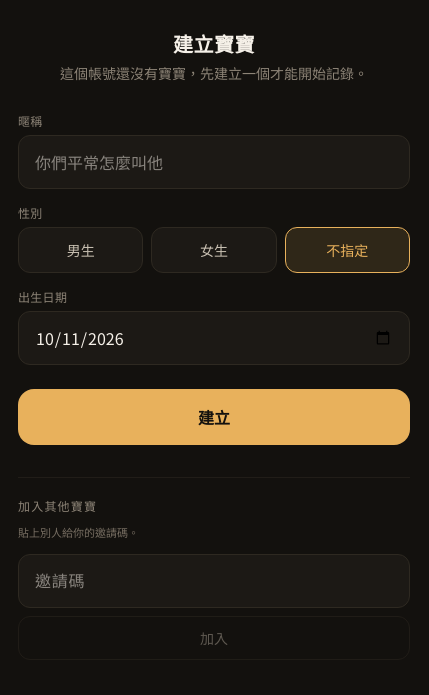
Scenario: an account with no baby yet › will not create one born on a day that does not exist
Type "小葉" into the field labelled "暱稱" at [214, 162], box [18,135,410,189]
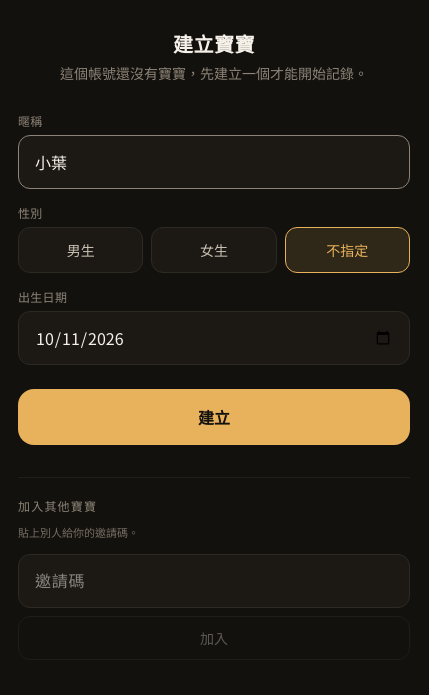
Type "2026-02-31" into the date field labelled "出生日期" at [214, 338], box [18,311,410,365]
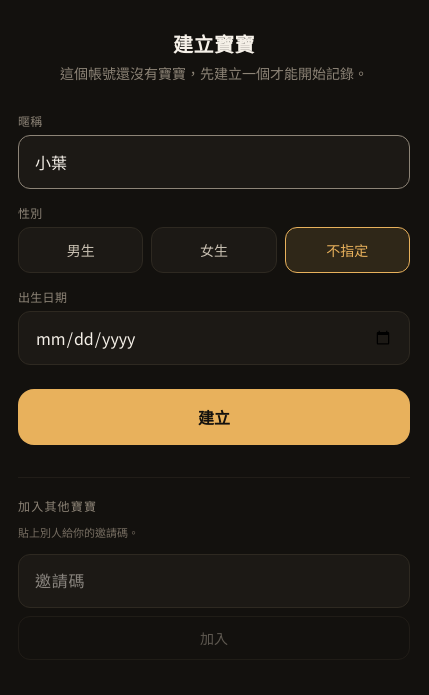
Click the button with test id "submit" at [214, 417], box [18,389,410,445]
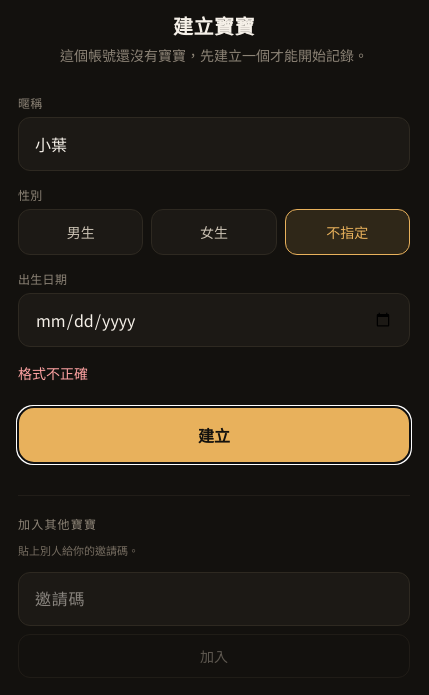
expect the text "格式不正確" is shown: met, box [18,363,88,383]
